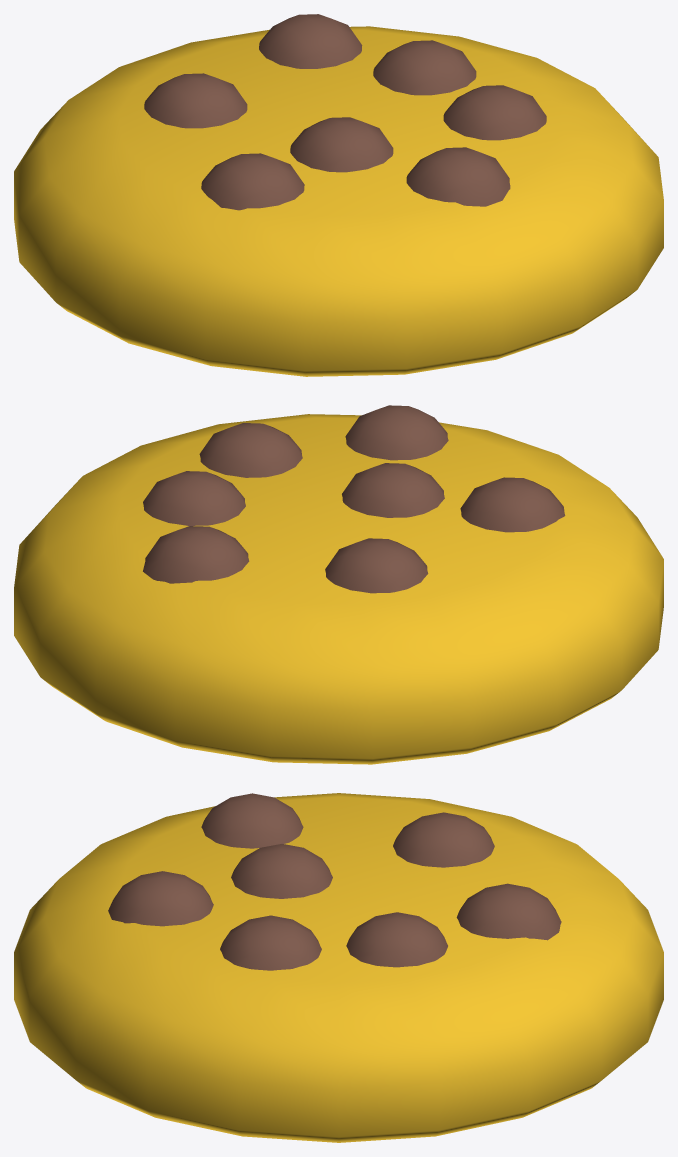
File: Cookie_1.fbx
The picture shows the model from 3 angles, top to bottom: view 1: azimuth 30°, elevation 25°; view 2: azimuth 150°, elevation 25°; view 3: azimuth 270°, elevation 25°; orthographic projection.
Parts seen in each view (by area): view 1: Cookie_1; view 2: Cookie_1; view 3: Cookie_1.
Part boxes in pixels (left/top/right/bottom): Cookie_1: left=14, top=14, right=663, bottom=376; Cookie_1: left=14, top=405, right=663, bottom=764; Cookie_1: left=14, top=793, right=663, bottom=1142.
Bounding box in the file's own units: 15.49 × 3.9 × 15.49.
